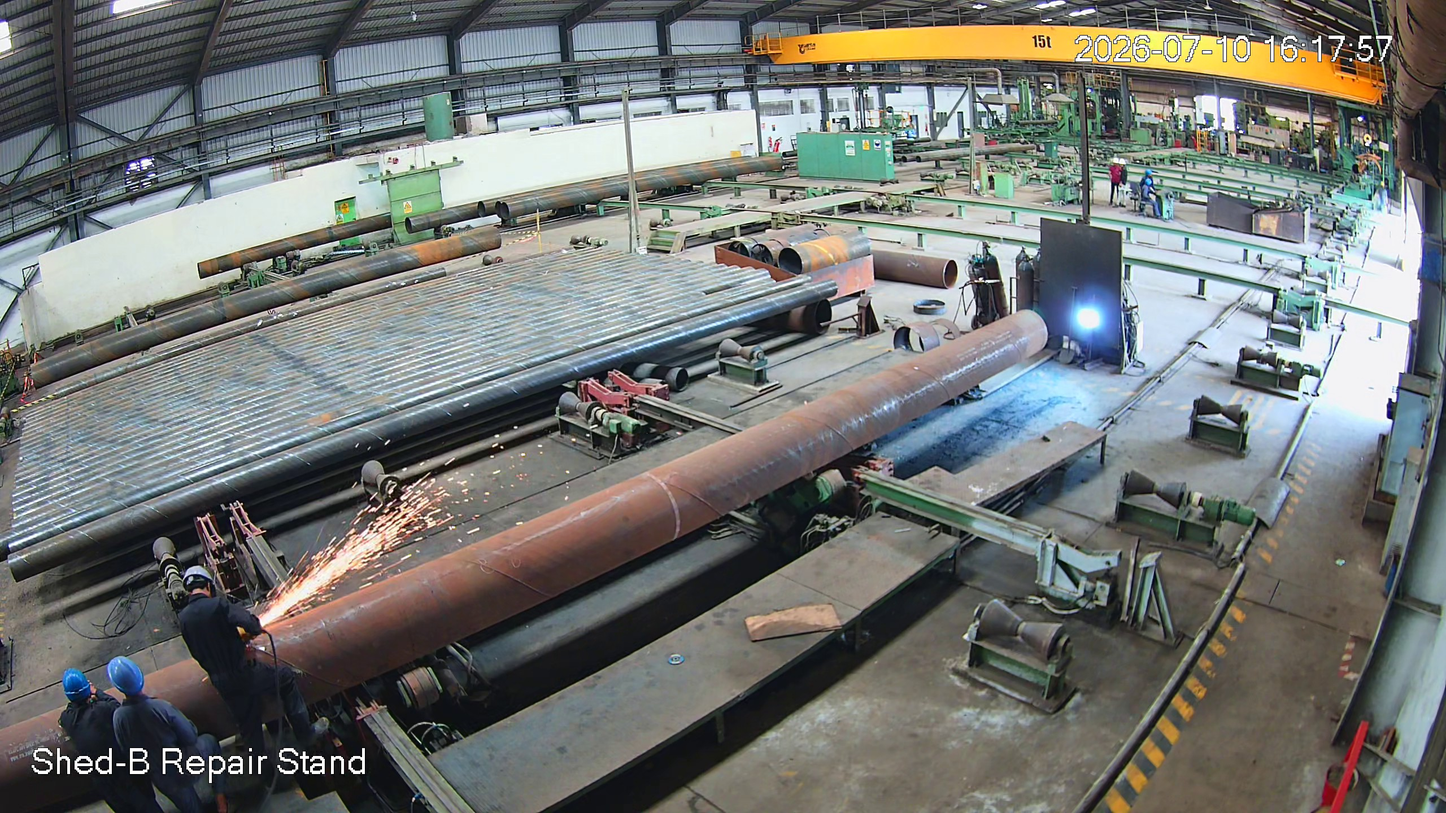Helmet: (100, 653, 152, 709), (176, 564, 227, 614), (59, 663, 98, 714)
Person: (180, 562, 319, 788), (105, 654, 205, 813), (55, 672, 130, 813)
